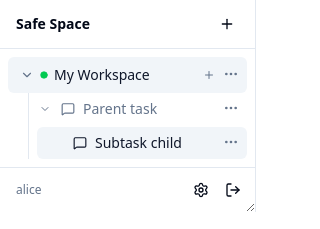
it: Sidebar — session hierarchy › collapses subtasks when user clicks the chevron again
Expected: the text "Subtask child" is shown, [95,133,182,152]
Click the button named "Collapse subtasks".
click(45, 109)  # box [37,101,53,117]
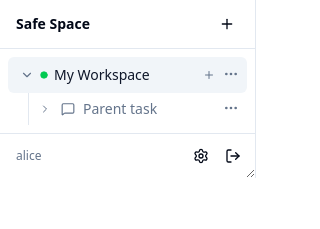
Result: the button "Subtask child" is gone
